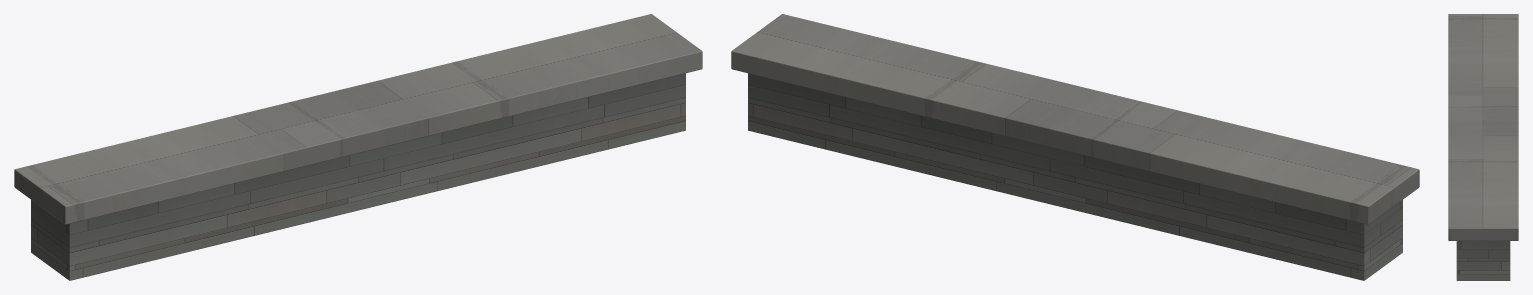
Rendered from ph_bench.gltf.
3 renders of one model, left to right at view 1: azimuth 30°, elevation 25°; view 2: azimuth 150°, elevation 25°; view 3: azimuth 270°, elevation 25°, orthographic. The views are drawn at different scales.
Parts seen in each view (by area): view 1: PHBench_Top, PHBench_Plinth; view 2: PHBench_Top, PHBench_Plinth; view 3: PHBench_Top, PHBench_Plinth.
Part boxes in pixels (left/top/right/bottom): PHBench_Top: left=14, top=14, right=702, bottom=224; PHBench_Plinth: left=31, top=73, right=685, bottom=280; PHBench_Top: left=731, top=14, right=1419, bottom=224; PHBench_Plinth: left=748, top=73, right=1402, bottom=280; PHBench_Top: left=1448, top=14, right=1518, bottom=240; PHBench_Plinth: left=1456, top=241, right=1510, bottom=280.
Size of the model in its own units: 3.6 by 0.44 by 0.4999.
Materials: 2 (2 with a texture image).
